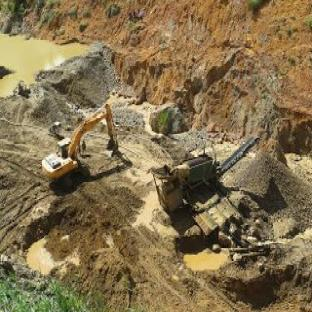ExcavationMachinery: (34, 97, 125, 196)
ProcessingEquipment: (147, 144, 225, 213)
